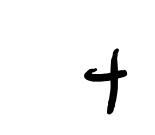plus: (85, 51, 127, 117)
